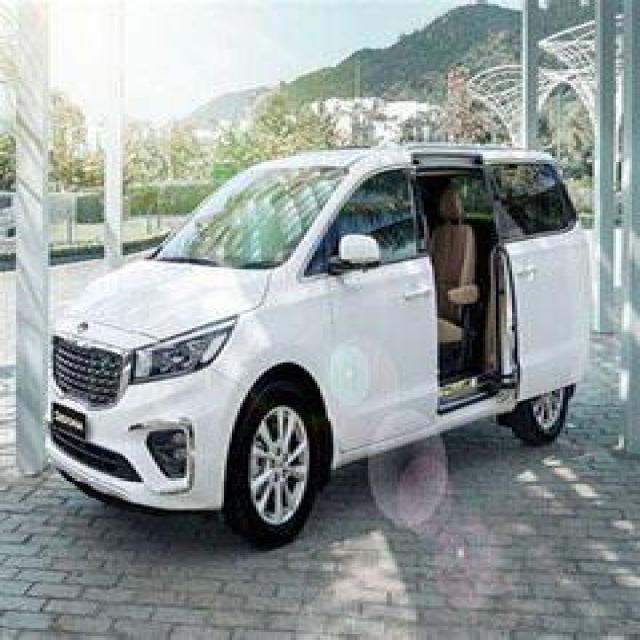car: (29, 78, 611, 572)
